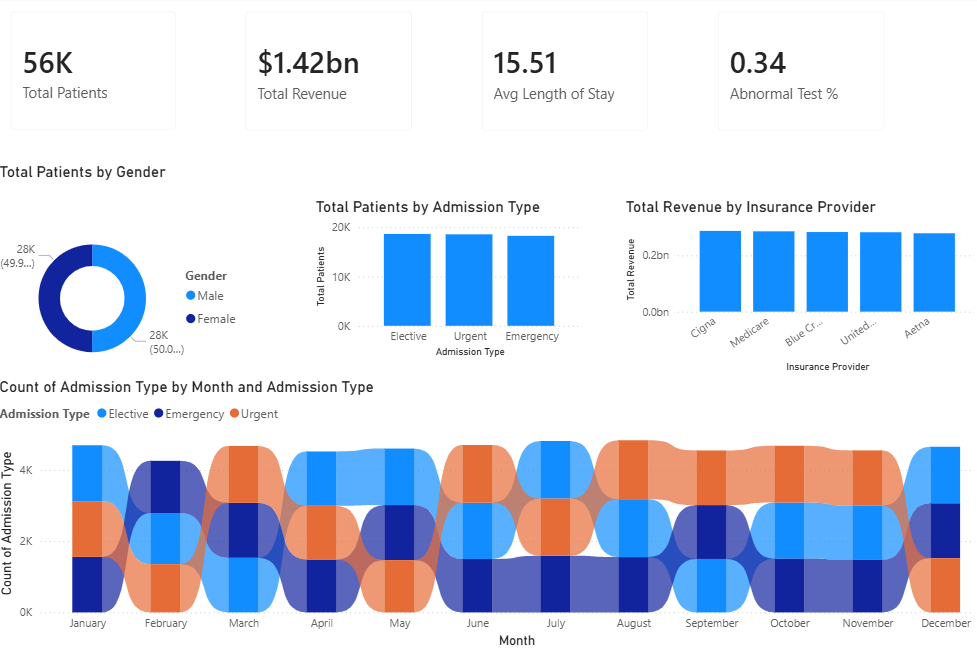

Layout of this report page (visuals, bound fields, positions):
{"tool":"powerbi","page":{"name":"Executive Overview","canvas":[1280,720],"ordinal":0},"visuals":[{"type":"donutChart","fields":{"Y":["healthcare_dataset (2).Total Patients"],"Category":["healthcare_dataset (2).Gender"]},"box":[0,182.5,279.9,279.9],"z":0},{"type":"cardVisual","fields":{"Data":["healthcare_dataset (2).Total Patients"]},"box":[0,0,216.8,164.7],"z":1000},{"type":"cardVisual","fields":{"Data":["healthcare_dataset (2).Total Revenue"]},"box":[258.5,0,217,165],"z":2000},{"type":"cardVisual","fields":{"Data":["healthcare_dataset (2).Avg Length of Stay"]},"box":[517.5,0,217,165],"z":3000},{"type":"cardVisual","fields":{"Data":["healthcare_dataset (2).Abnormal Test %"]},"box":[776.5,0,217,165],"z":4000},{"type":"columnChart","fields":{"Category":["healthcare_dataset (2).Admission Type"],"Y":["healthcare_dataset (2).Total Patients"]},"box":[347.2,220.9,301.9,181.1],"z":5000},{"type":"clusteredColumnChart","fields":{"Y":["healthcare_dataset (2).Total Revenue"],"Category":["healthcare_dataset (2).Insurance Provider"]},"box":[687.5,220.9,396.6,197.6],"z":6000},{"type":"ribbonChart","fields":{"Category":["healthcare_dataset (2).Date of Admission.Variation.Date Hierarchy.Month"],"Y":["CountNonNull(healthcare_dataset (2).Admission Type)"],"Series":["healthcare_dataset (2).Admission Type"]},"box":[0,418.5,1100.5,301.9],"z":7000}]}

Visuals, with their boxes on the page's 1280x720 design canvas (x1, y1, x2, y2). These are canvas units, not pixel positions in the 977x648 screenshot, which may show the page scaled, cropped or inside an application window:
donutChart - healthcare_dataset (2).Total Patients x healthcare_dataset (2).Gender: 0, 182, 280, 462
cardVisual - healthcare_dataset (2).Total Patients: 0, 0, 217, 165
cardVisual - healthcare_dataset (2).Total Revenue: 258, 0, 476, 165
cardVisual - healthcare_dataset (2).Avg Length of Stay: 518, 0, 734, 165
cardVisual - healthcare_dataset (2).Abnormal Test %: 776, 0, 994, 165
columnChart - healthcare_dataset (2).Admission Type x healthcare_dataset (2).Total Patients: 347, 221, 649, 402
clusteredColumnChart - healthcare_dataset (2).Total Revenue x healthcare_dataset (2).Insurance Provider: 688, 221, 1084, 418
ribbonChart - healthcare_dataset (2).Date of Admission.Variation.Date Hierarchy.Month x CountNonNull(healthcare_dataset (2).Admission Type): 0, 418, 1100, 720
